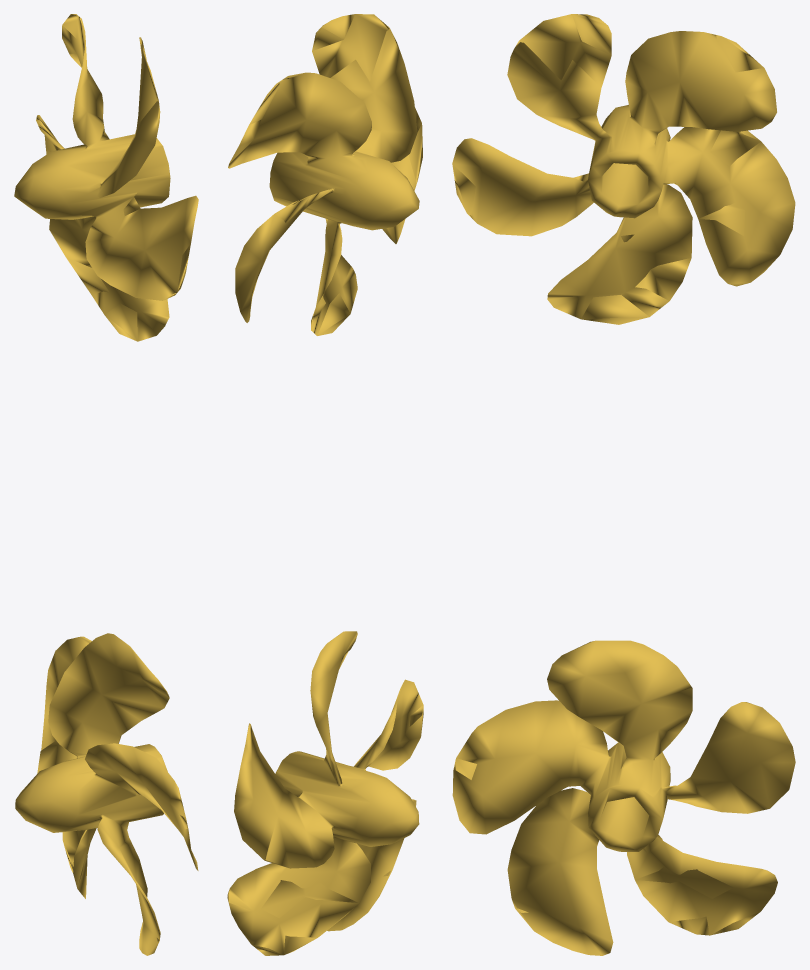
Rendered from propeller_gold.glb.
3 renders of one model, left to right at view 1: azimuth 30°, elevation 25°; view 2: azimuth 150°, elevation 25°; view 3: azimuth 270°, elevation 25°, orthographic. The views are drawn at different scales.
Visible parts, largest first — view 1: propeller_gold.obj; view 2: propeller_gold.obj; view 3: propeller_gold.obj.
Part boxes in pixels (x1=…): propeller_gold.obj: x1=14, y1=14, x2=198, y2=955; propeller_gold.obj: x1=227, y1=14, x2=423, y2=955; propeller_gold.obj: x1=452, y1=14, x2=795, y2=955.
Size of the model in its own units: 1.34 by 8.46 by 2.8.
